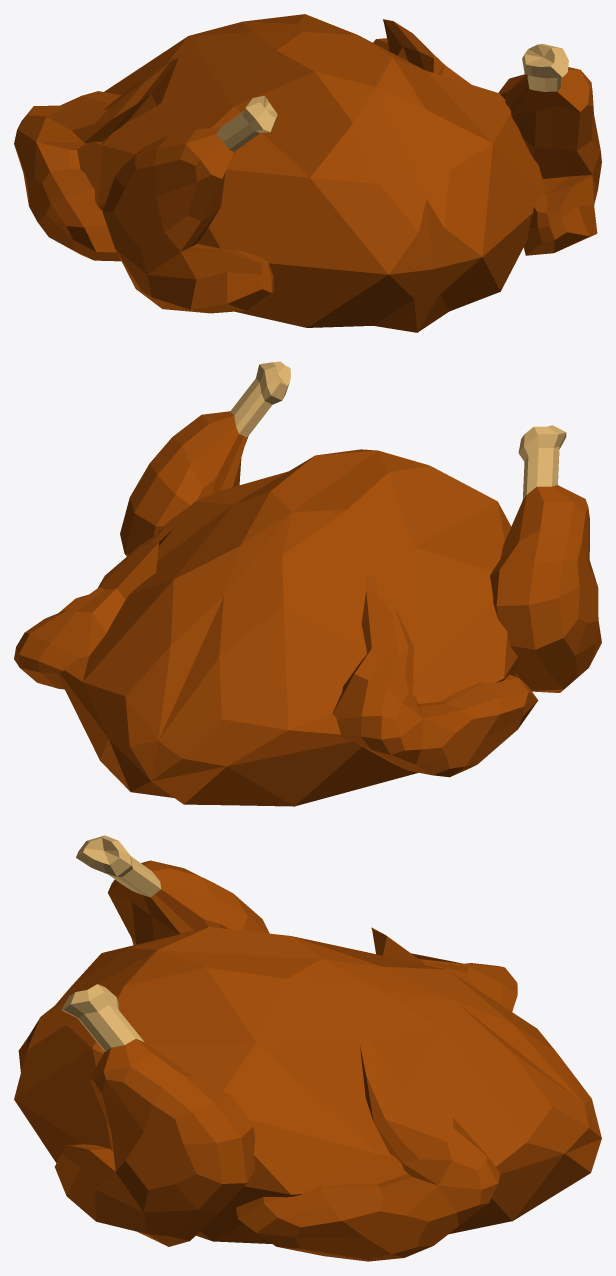
Rendered from tavuk_revize.fbx.
The picture shows the model from 3 angles, top to bottom: view 1: azimuth 30°, elevation 25°; view 2: azimuth 150°, elevation 25°; view 3: azimuth 270°, elevation 25°; orthographic projection. The views are drawn at different scales.
Visible parts, largest first — view 1: Icosphere.004; view 2: Icosphere.004; view 3: Icosphere.004.
Part boxes in pixels (x1,y1,x2,y2): Icosphere.004: [14, 14, 601, 332]; Icosphere.004: [14, 361, 601, 806]; Icosphere.004: [14, 835, 601, 1261].
Bounding box in the file's own units: 0.6661 × 0.3839 × 0.7156.
